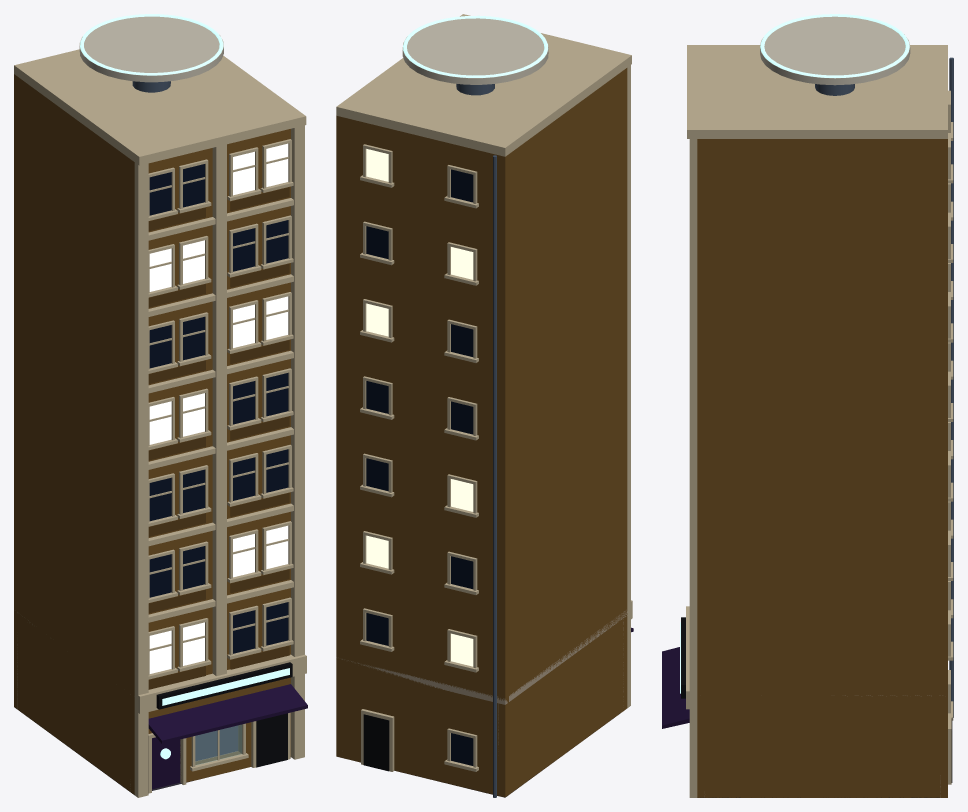
The model's file is row_tower.glb.
3 renders of one model, left to right at view 1: azimuth 30°, elevation 25°; view 2: azimuth 150°, elevation 25°; view 3: azimuth 270°, elevation 25°, orthographic. The views are drawn at different scales.
Parts seen in each view (by area): view 1: row_tower, door_shop_leaf; view 2: row_tower; view 3: row_tower.
Part boxes in pixels (x1,y1,x2,y2): row_tower: [14, 14, 307, 797]; door_shop_leaf: [152, 737, 180, 789]; row_tower: [336, 14, 633, 797]; row_tower: [662, 14, 953, 797].
Size of the model in its own units: 8 by 31.28 by 11.64.
